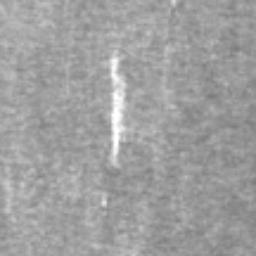White rust: (109, 53, 127, 161), (100, 197, 108, 208)
